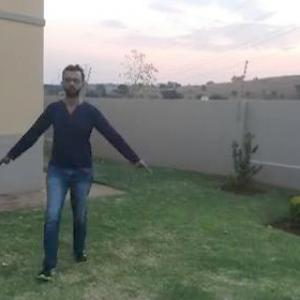land: (3, 60, 148, 265)
